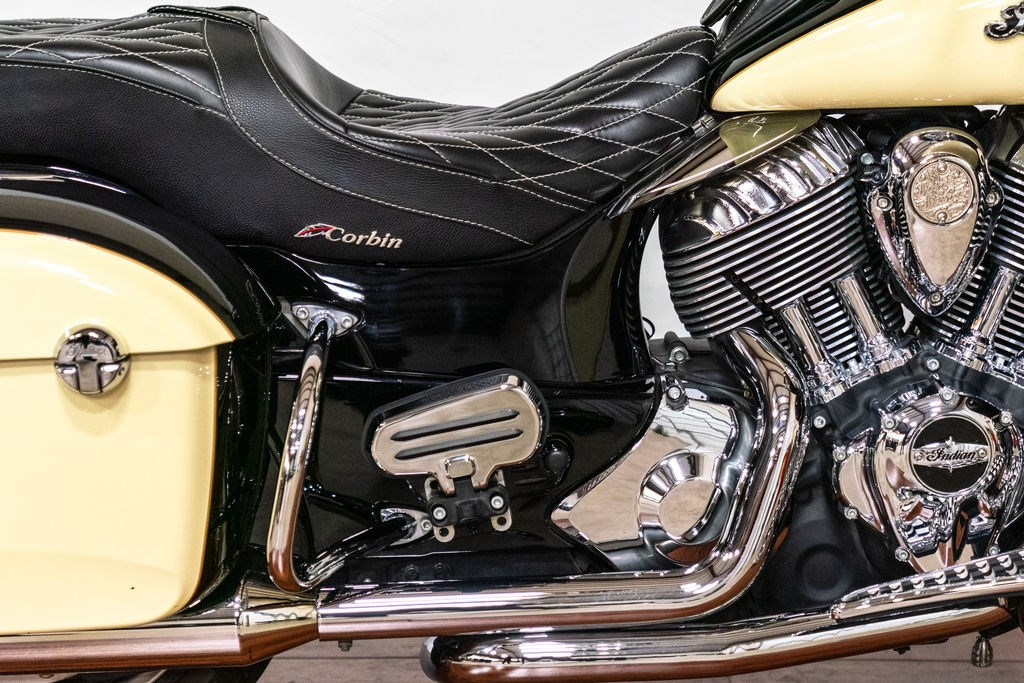Motor Cycle: (1, 5, 1015, 658)
